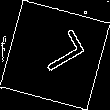L_SW: (25, 29, 85, 81)
